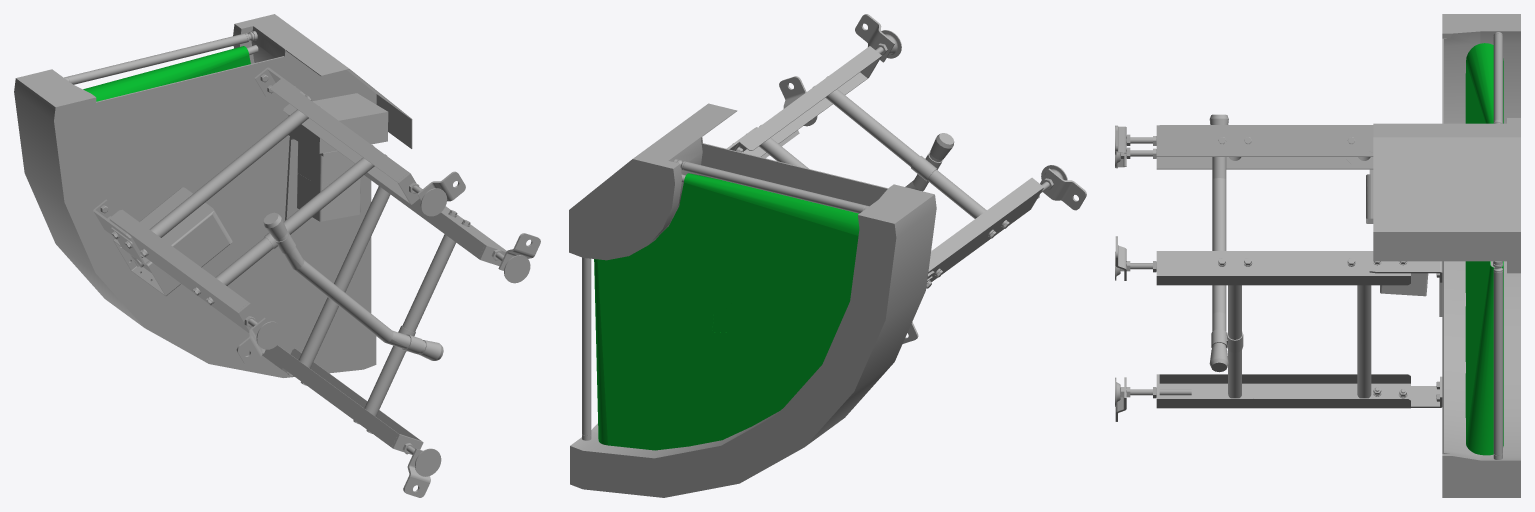
The model's file is SANKI-SMBM40-90R20H(D13-1A15)R-G75.dae.
3 views of the same model, side by side, from view 1: azimuth 30°, elevation 25°; view 2: azimuth 150°, elevation 25°; view 3: azimuth 270°, elevation 25° (orthographic). The views are drawn at different scales.
Parts seen in each view (by area): view 1: _SMBM40H_frame10000064_0, _SMBM40_1_stand10000071_0, _SMBM40_2_stand10000082_0, _SMBM__H_D_R__mot10000090_0, _SMBM__13__contro10000073_0, _SMBM__40-R-G__be10000065_0, _SMBM__40__roller10000068_0, _SMBM40_adjuster_10000087_0, _SMBM40_adjuster_10000079_0, _SMBM40_adjuster_10000088_0, _SMBM40_adjuster_10000078_0, _SMBM_bracket10000070_0; view 2: _SMBM__40-R-G__be10000065_0, _SMBM40H_frame10000064_0, _SMBM40_1_stand10000071_0, _SMBM__40__roller10000068_0, _SMBM__40__roller10000069_0, _SMBM40_adjuster_10000078_0, _SMBM40_adjuster_10000079_0, _SMBM40_adjuster_10000088_0; view 3: _SMBM40H_frame10000064_0, _SMBM40_2_stand10000082_0, _SMBM40_1_stand10000071_0, _SMBM__40-R-G__be10000065_0, _SMBM__40__roller10000069_0, _SMBM_bracket10000084_0, _SMBM__40__roller10000068_0, _SMBM__H_D_R__mot10000090_0, _SMBM40_adjuster_10000087_0, _SMBM_bracket10000081_0, _SMBM40_adjuster_10000088_0, _SMBM40_adjuster_10000079_0.
Boxes of the visible parts, <box> form: _SMBM40H_frame10000064_0: <box>14,14,412,377</box>; _SMBM40_1_stand10000071_0: <box>109,79,443,360</box>; _SMBM40_2_stand10000082_0: <box>264,172,506,454</box>; _SMBM__H_D_R__mot10000090_0: <box>285,93,388,221</box>; _SMBM__13__contro10000073_0: <box>113,187,232,296</box>; _SMBM__40-R-G__be10000065_0: <box>83,46,250,101</box>; _SMBM__40__roller10000068_0: <box>64,31,257,84</box>; _SMBM40_adjuster_10000087_0: <box>403,446,441,497</box>; _SMBM40_adjuster_10000079_0: <box>412,171,465,216</box>; _SMBM40_adjuster_10000088_0: <box>495,233,540,283</box>; _SMBM40_adjuster_10000078_0: <box>236,317,282,365</box>; _SMBM_bracket10000070_0: <box>93,199,140,254</box>; _SMBM__40-R-G__be10000065_0: <box>594,173,859,450</box>; _SMBM40H_frame10000064_0: <box>569,103,936,497</box>; _SMBM40_1_stand10000071_0: <box>734,46,1043,281</box>; _SMBM__40__roller10000068_0: <box>674,159,868,213</box>; _SMBM__40__roller10000069_0: <box>582,257,591,440</box>; _SMBM40_adjuster_10000078_0: <box>1040,165,1086,210</box>; _SMBM40_adjuster_10000079_0: <box>855,14,901,62</box>; _SMBM40_adjuster_10000088_0: <box>779,76,817,126</box>; _SMBM40H_frame10000064_0: <box>1373,14,1520,497</box>; _SMBM40_2_stand10000082_0: <box>1153,251,1410,408</box>; _SMBM40_1_stand10000071_0: <box>1153,114,1373,372</box>; _SMBM__40-R-G__be10000065_0: <box>1465,43,1503,455</box>; _SMBM__40__roller10000069_0: <box>1493,261,1502,459</box>; _SMBM_bracket10000084_0: <box>1369,252,1442,282</box>; _SMBM__40__roller10000068_0: <box>1493,32,1502,123</box>; _SMBM__H_D_R__mot10000090_0: <box>1380,273,1442,316</box>; _SMBM40_adjuster_10000087_0: <box>1115,377,1191,421</box>; _SMBM_bracket10000081_0: <box>1411,376,1442,407</box>; _SMBM40_adjuster_10000088_0: <box>1115,236,1152,280</box>; _SMBM40_adjuster_10000079_0: <box>1115,125,1152,155</box>.
Size of the model in its own units: 710 by 710 by 785.
